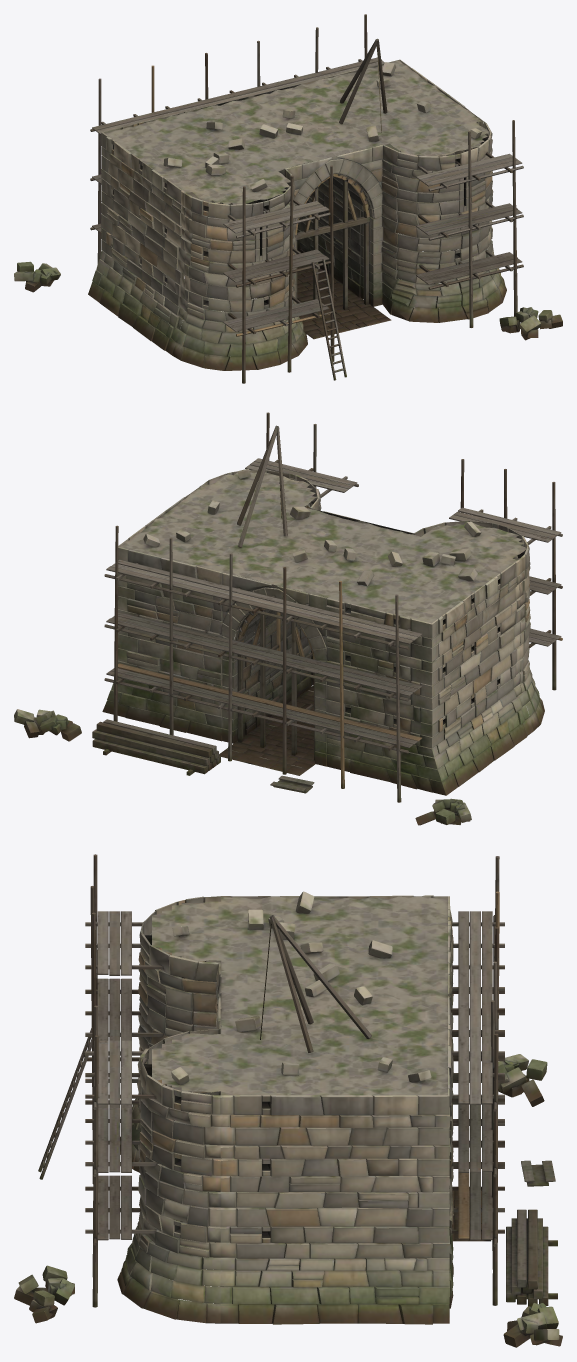
Rendered from gatehouse_build2.glb.
3 renders of one model, top to bottom at view 1: azimuth 30°, elevation 25°; view 2: azimuth 150°, elevation 25°; view 3: azimuth 270°, elevation 25°, orthographic. The views are drawn at different scales.
Visible parts, largest first — view 1: gatehouse_build2_LOD0; view 2: gatehouse_build2_LOD0; view 3: gatehouse_build2_LOD0.
Boxes of the visible parts, x1,y1,x2,y2 form: gatehouse_build2_LOD0: (14, 14, 562, 383); gatehouse_build2_LOD0: (14, 412, 562, 825); gatehouse_build2_LOD0: (14, 854, 562, 1347).
Size of what is drawn, in the model's own units: 17.07 by 9.76 by 14.
Materials: 1 (1 with a texture image).
